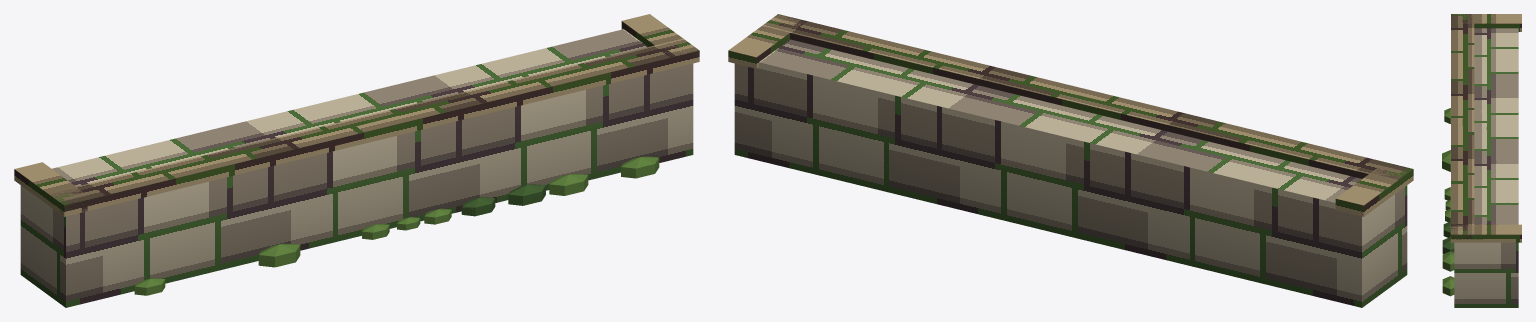
The model's file is scene_cross3n.glb.
3 renders of one model, left to right at view 1: azimuth 30°, elevation 25°; view 2: azimuth 150°, elevation 25°; view 3: azimuth 270°, elevation 25°, orthographic. The views are drawn at different scales.
Parts seen in each view (by area): view 1: scene_cross3n; view 2: scene_cross3n; view 3: scene_cross3n.
Boxes of the visible parts, box(x1,y1,x2,y2) form: scene_cross3n: box(14, 14, 699, 307); scene_cross3n: box(728, 14, 1413, 307); scene_cross3n: box(1442, 14, 1521, 307).
Bounding box in the file's own units: 8.1 × 1.37 × 1.24.
2 materials, 1 textured.
